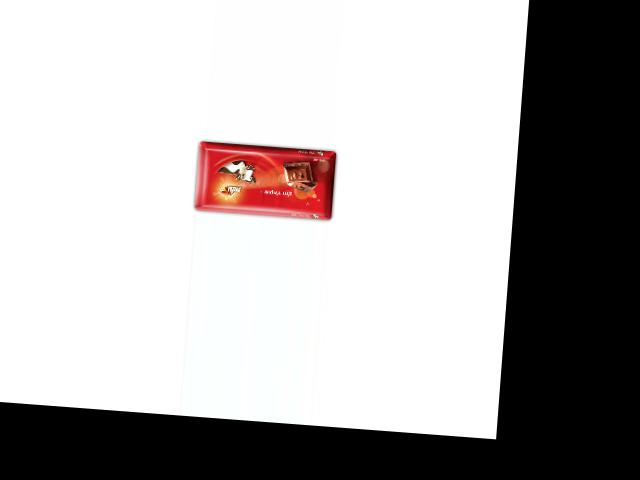chocolate: (186, 135, 339, 221)
